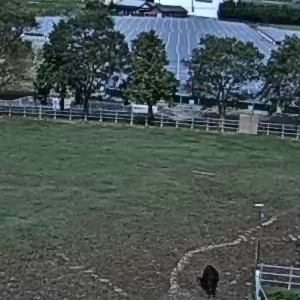cow: (188, 257, 243, 298)
